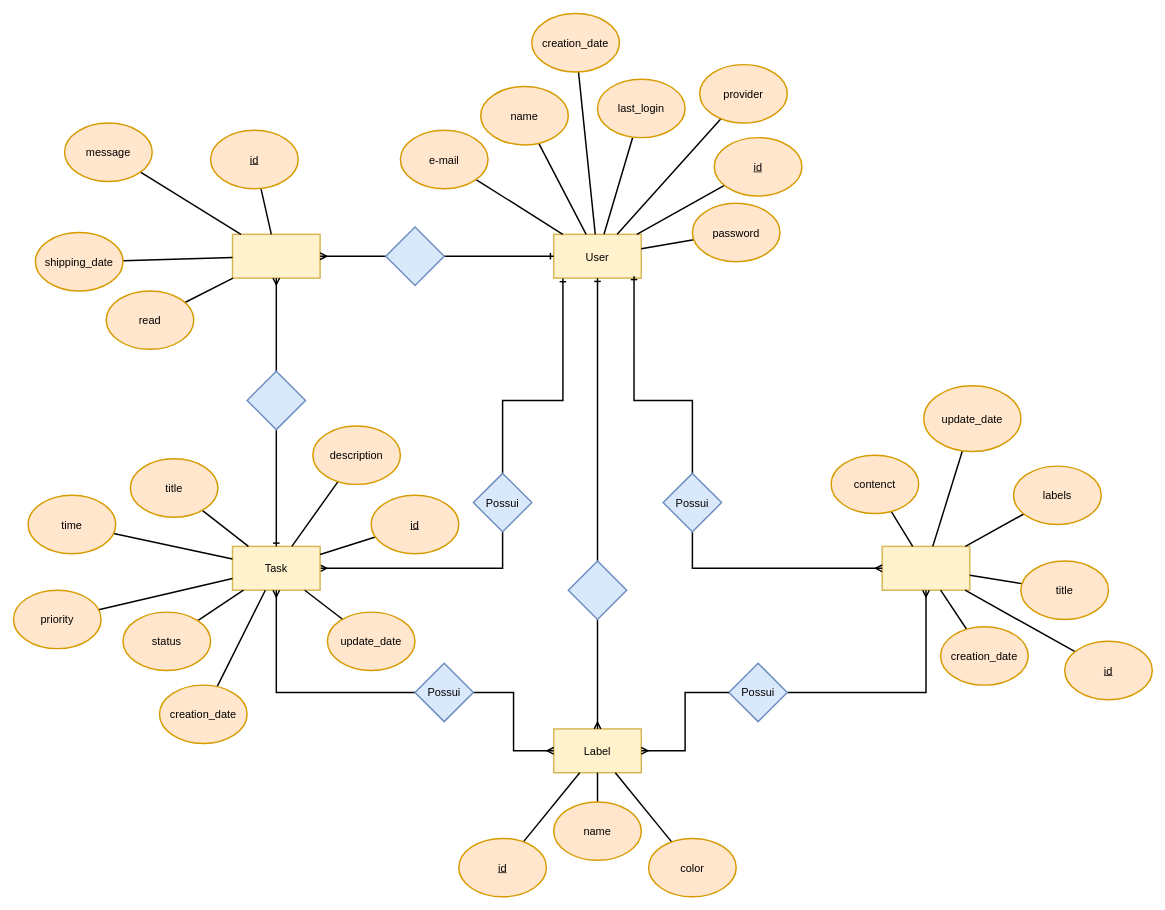
Some shapes in this 1165 by 910 pixel diagram are drawn without their labels. The shapes that lost their labels are listed below. From the top down, each one's centre as x and y in pixels, then its label:
At point (275, 255): "Notifications".
At point (415, 256): "Recebe".
At point (276, 400): "Gera".
At point (925, 568): "Notes".
At point (597, 590): "Gerencia".
